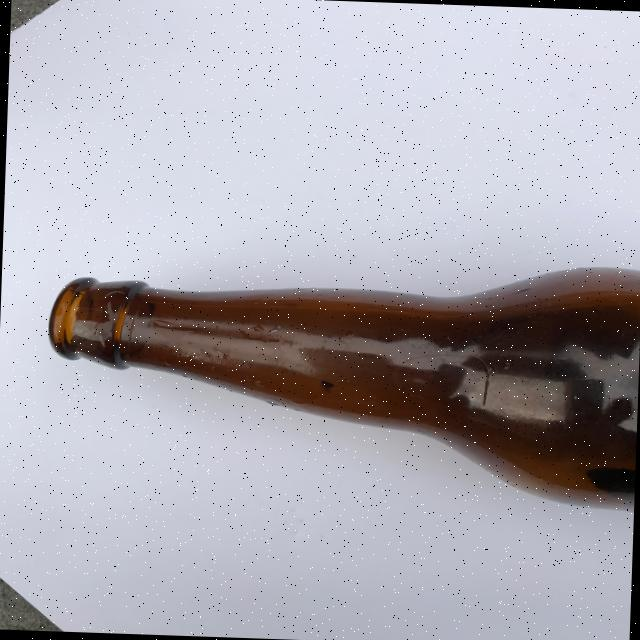glass: (48, 248, 626, 504)
